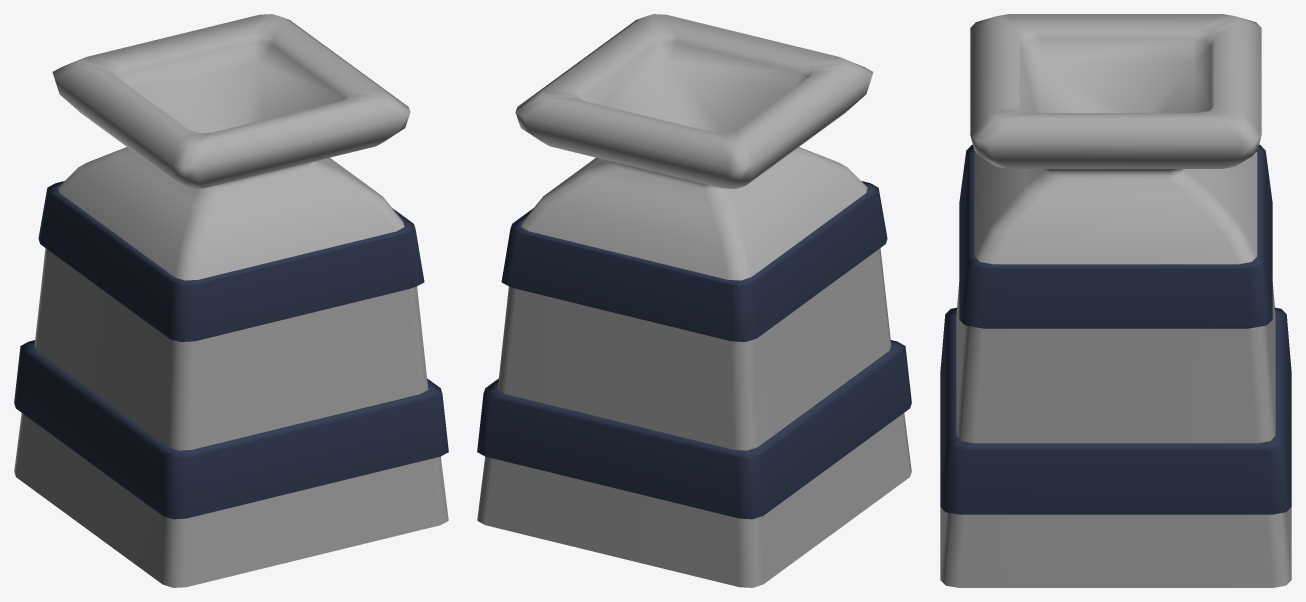
File: Sconce.fbx
The picture shows the model from 3 angles, left to right: view 1: azimuth 30°, elevation 25°; view 2: azimuth 150°, elevation 25°; view 3: azimuth 270°, elevation 25°; orthographic projection. The views are drawn at different scales.
Visible parts, largest first — view 1: TheSconce; view 2: TheSconce; view 3: TheSconce.
Boxes of the visible parts, bbox=[...] form: TheSconce: bbox=[14, 14, 448, 587]; TheSconce: bbox=[477, 14, 911, 587]; TheSconce: bbox=[940, 14, 1291, 587].
Size of the model in its own units: 124 by 175 by 124.
